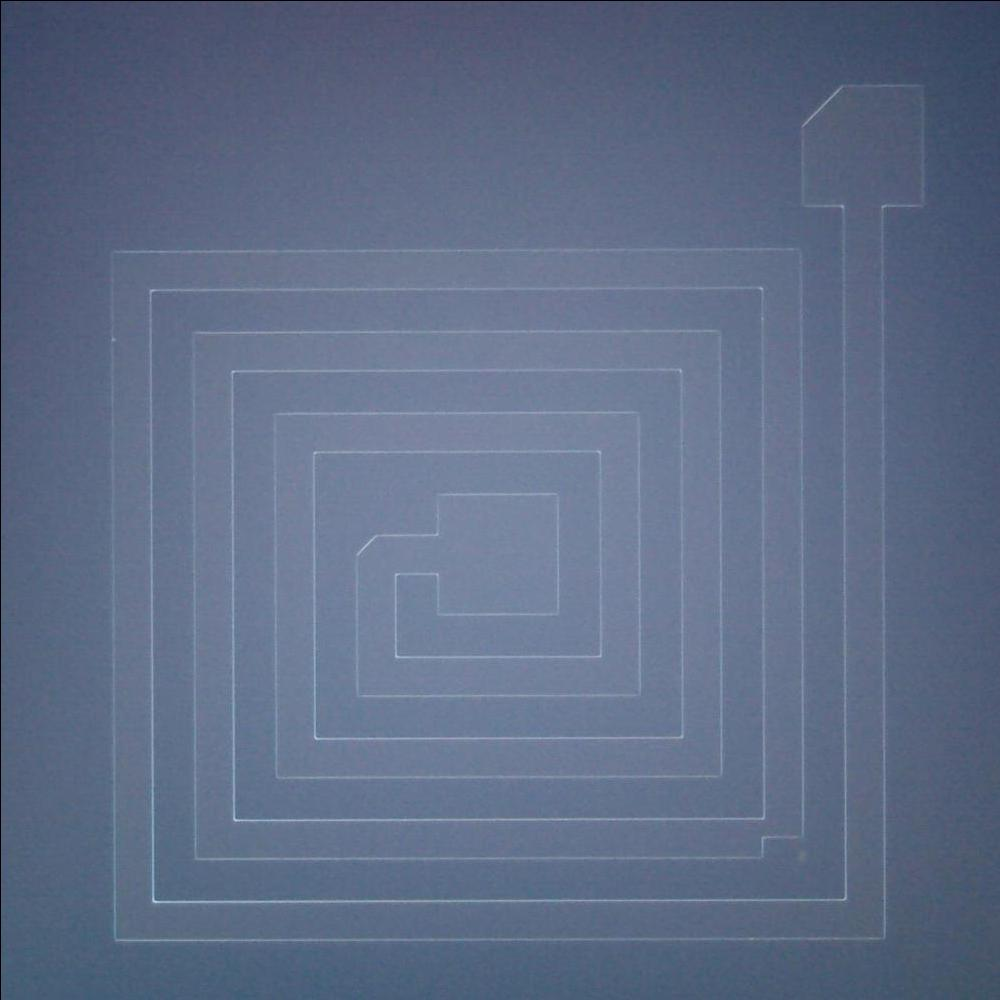edge circuit: (788, 72, 844, 132), (743, 823, 810, 867), (350, 526, 382, 562)
